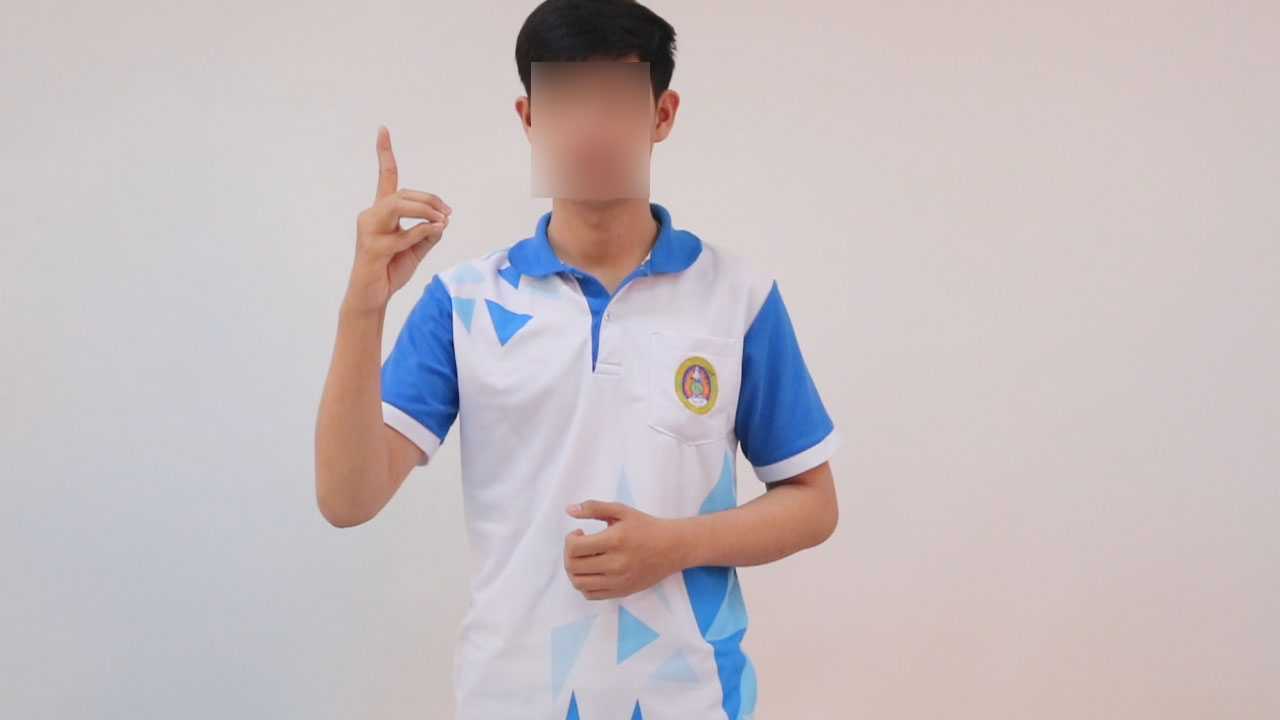dor: (332, 117, 460, 314)
